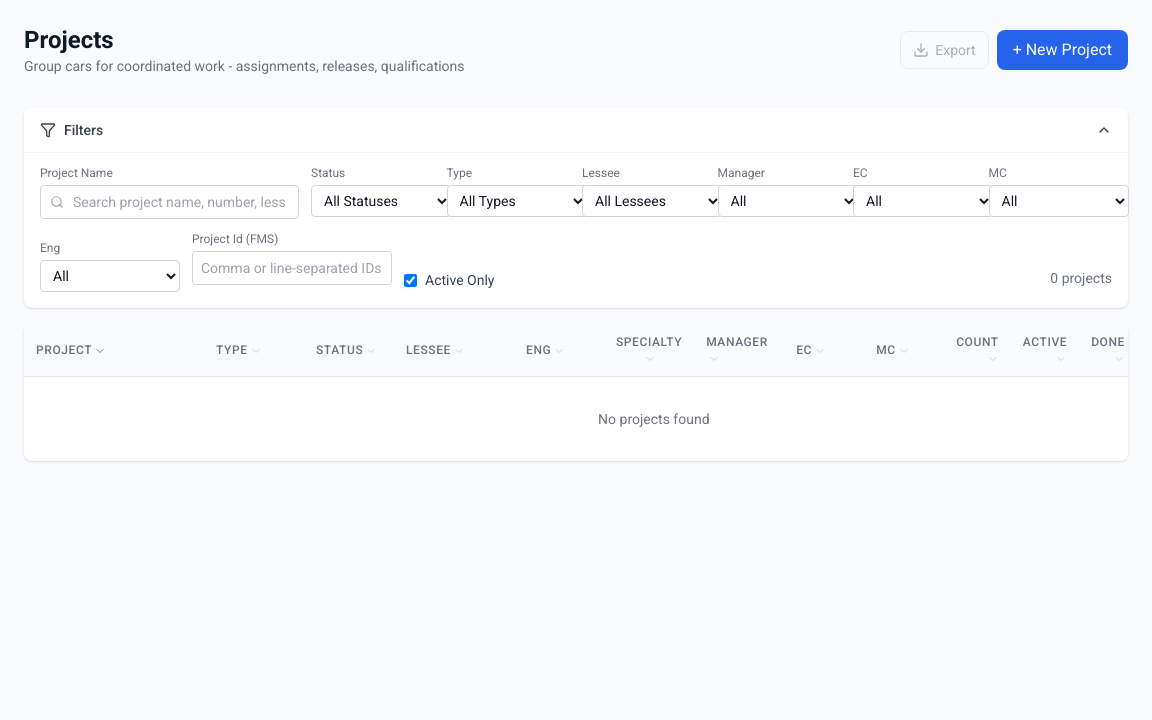
Test: ProjectsPage › opens create project modal when button clicked
Click the button "+ New Project" at {"x": 1062, "y": 50}, box [997,30,1128,70]
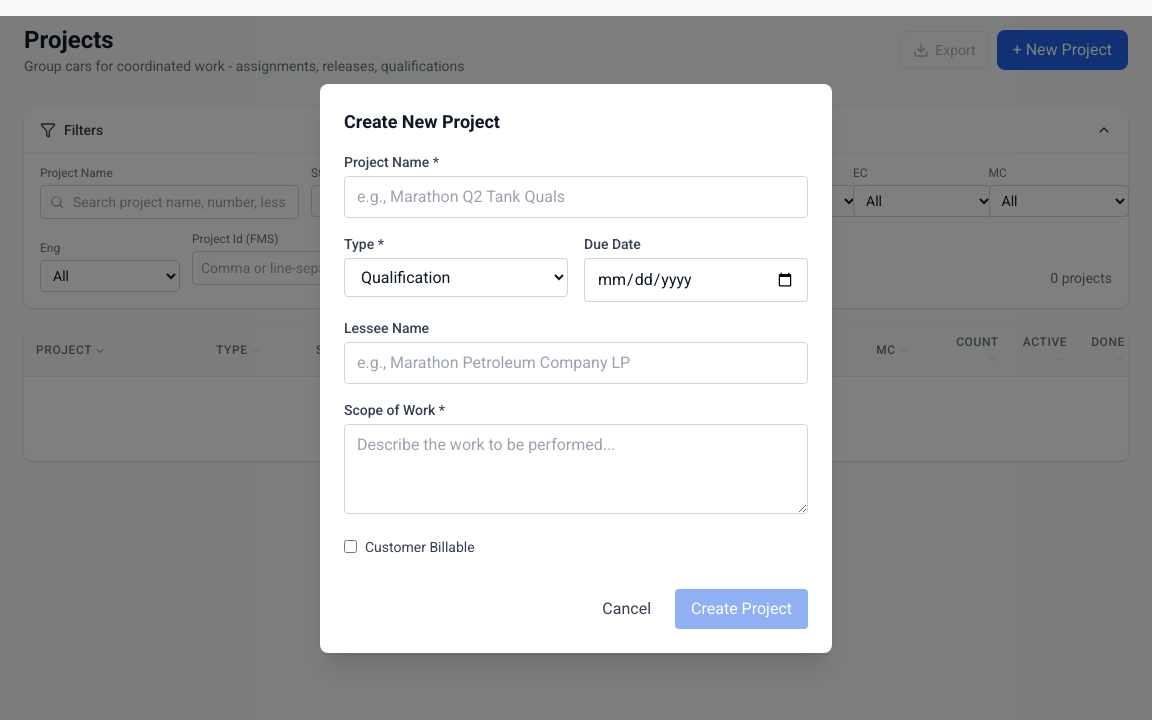
Check: the heading "Create New Project" is shown, box [344,110,500,132]
